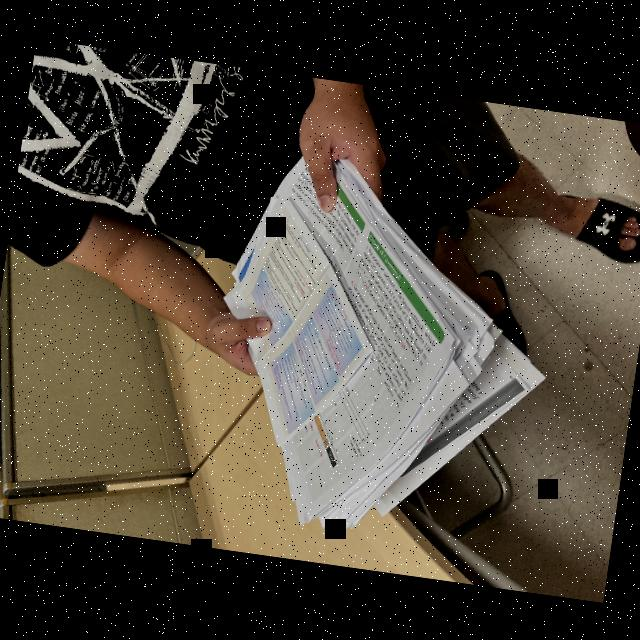reuseable_paper: (186, 132, 583, 564)
